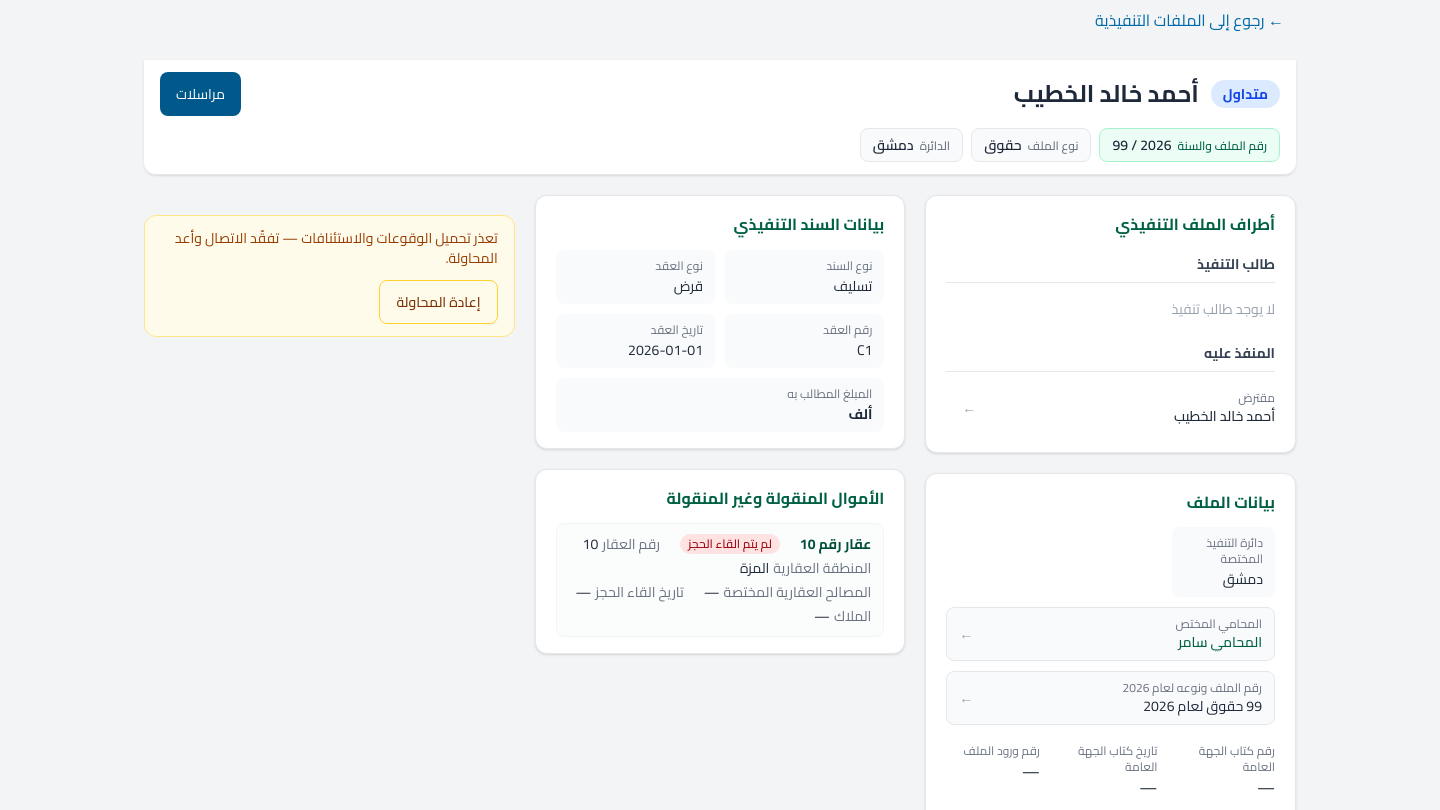
Scenario: PortalFileDetail المرآة القرائية › يعرض شريط إعادة المحاولة عند تعذر تحميل الوقوعات/الاستئنافات ثم يعيد التحميل بنجاح
The image size is (1440, 810).
Check: the text "تعذر تحميل الوقوعات والاستئنافات — تفقّد الاتصال وأعد المحاولة." is shown, box [161,228,498,268]
Click the button "إعادة المحاولة" at coordinates (439, 302), box [379,280,498,324]
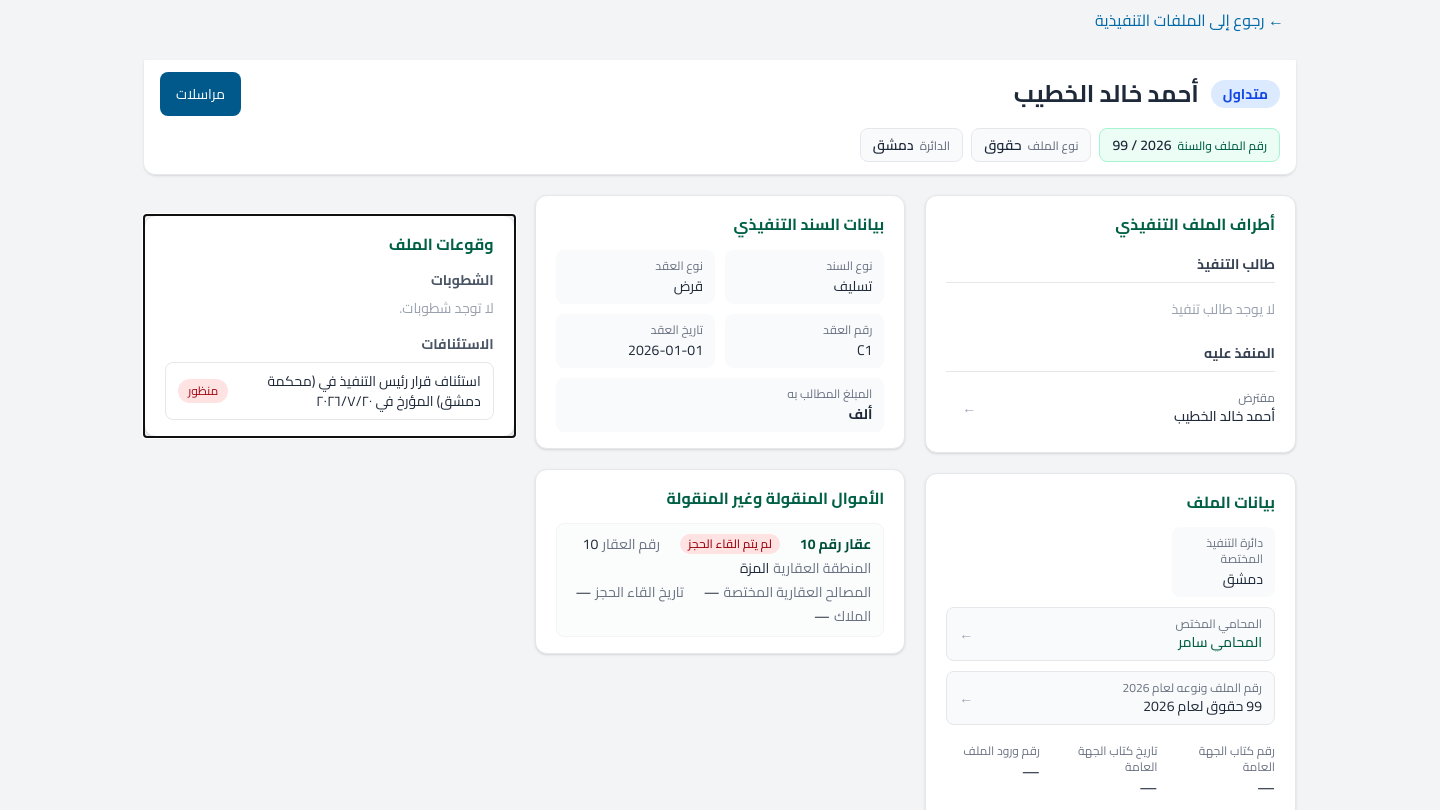
Check: the button with aria-label "عرض تفاصيل استئناف قرار رئيس التنفيذ" is shown, box [165,362,494,420]
Check: the button "إعادة المحاولة" is gone
